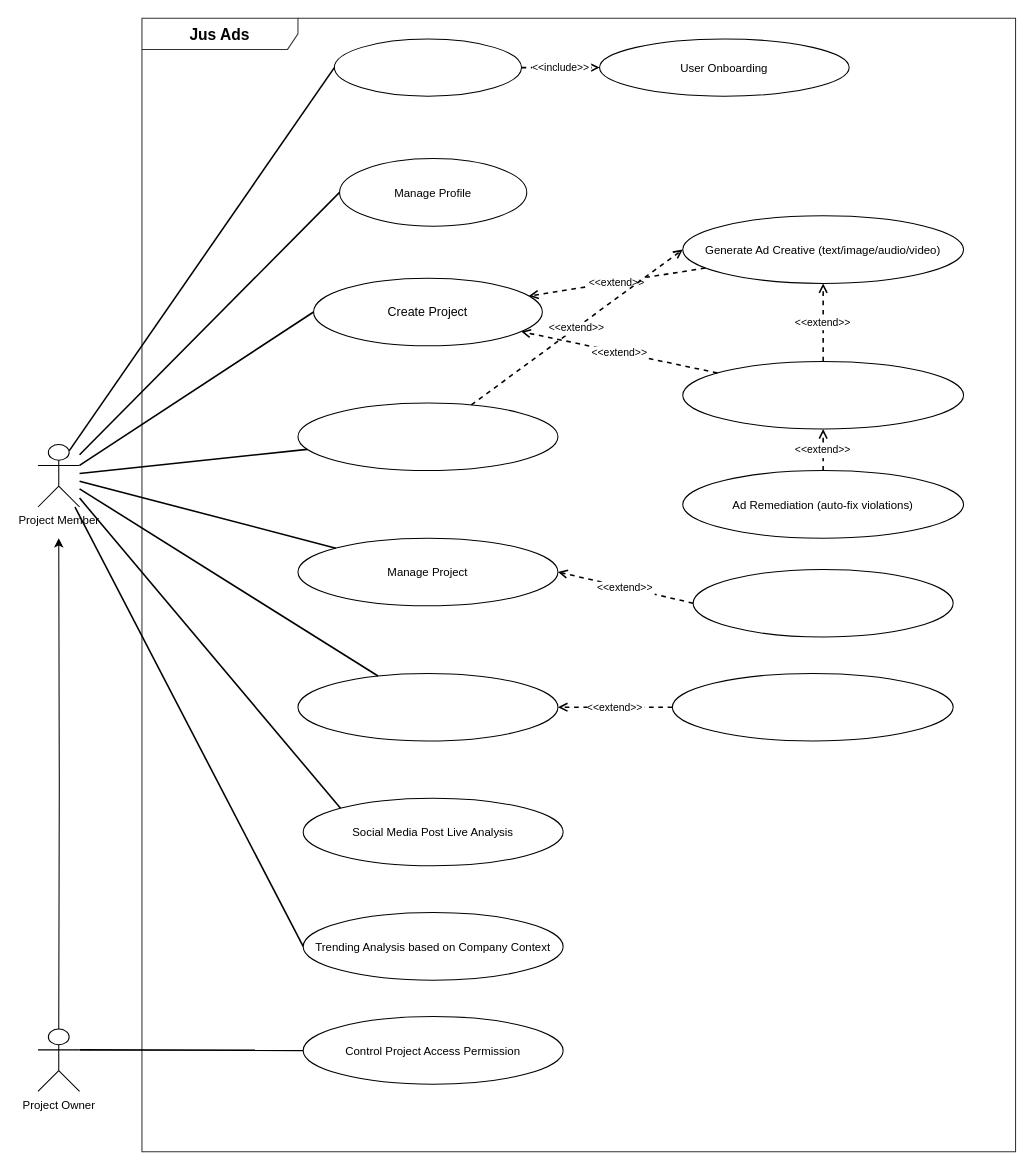
Some shapes in this 1034 by 1170 pixel diagram are drawn without their labels. The shapes that lost their labels are listed below. From the top down, each one's centre as x and y in pixels, then its label:
At (x=427, y=67): "Login".
At (x=823, y=394): "Ad Compliance and Localization Check".
At (x=427, y=436): "Browse Prompt Library".
At (x=822, y=602): "Manage Generation or Compliance Check Task".
At (x=427, y=706): "Manage Assets".
At (x=812, y=706): "Distribute Assets to Social Media".
